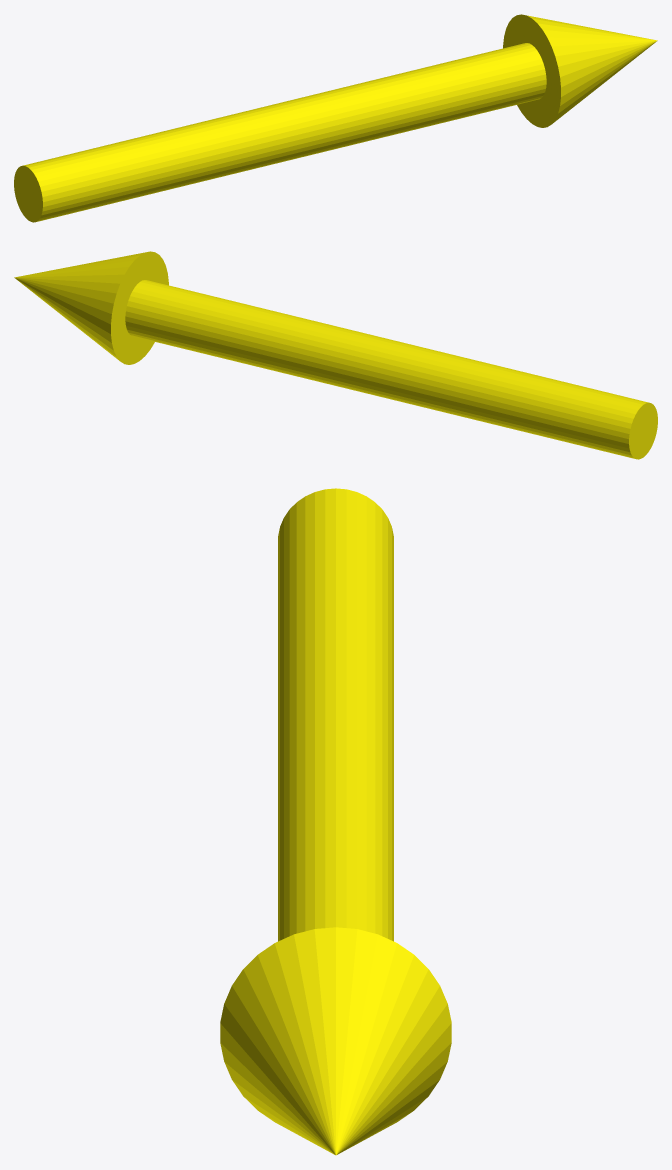
File: vector3.fbx
3 views of the same model, one above another, from view 1: azimuth 30°, elevation 25°; view 2: azimuth 150°, elevation 25°; view 3: azimuth 270°, elevation 25° (orthographic). The views are drawn at different scales.
Visible parts, largest first — view 1: default; view 2: default; view 3: default.
Part boxes in pixels (bbox=[...]): default: bbox=[14, 14, 657, 222]; default: bbox=[14, 251, 657, 459]; default: bbox=[220, 488, 451, 1155].
Bounding box in the file's own units: 0.00125 × 0.0002 × 0.000199.
